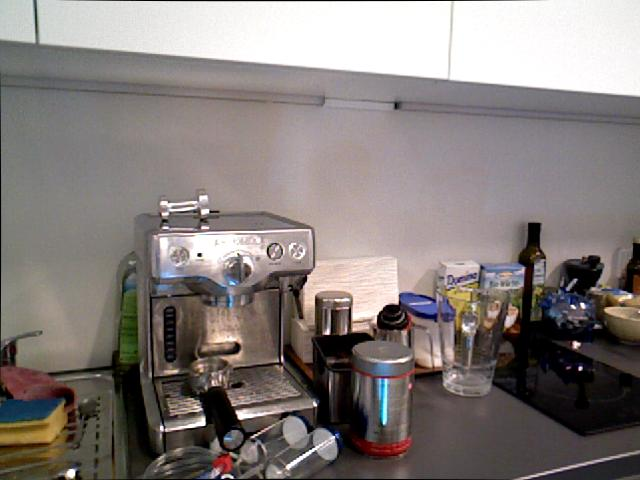bench: (107, 249, 145, 371), (517, 221, 546, 324), (625, 237, 639, 295)
bird: (602, 305, 639, 343)
handbag: (434, 285, 509, 397)
toilet: (70, 395, 103, 447), (47, 457, 88, 480)
